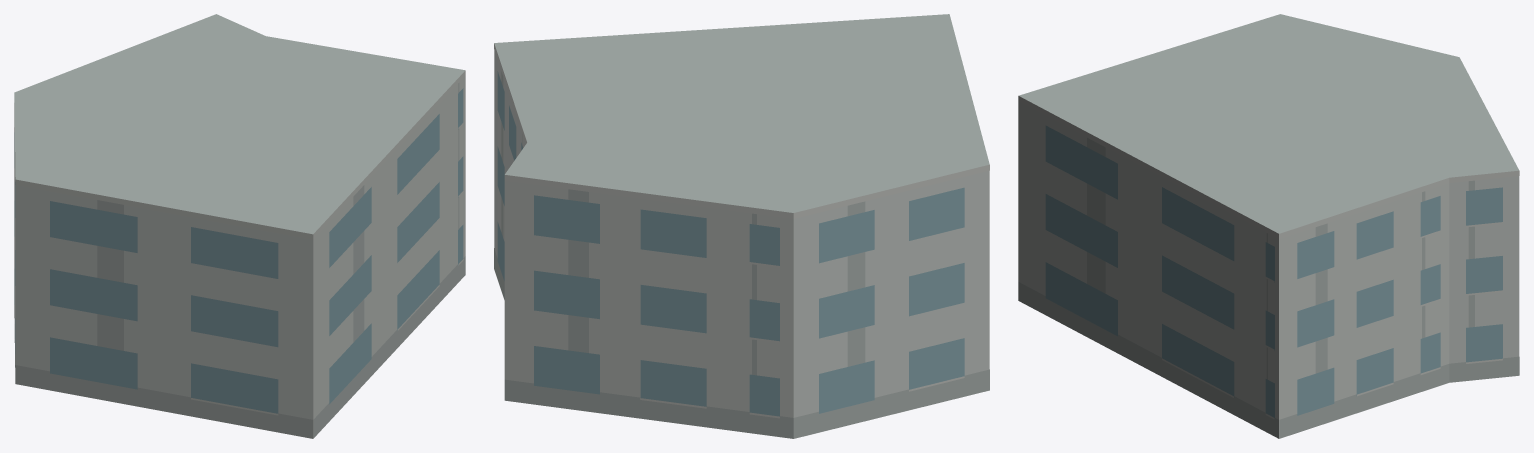
File: survey-upis-32489739.glb
3 views of the same model, side by side, from view 1: azimuth 30°, elevation 25°; view 2: azimuth 150°, elevation 25°; view 3: azimuth 270°, elevation 25° (orthographic). The views are drawn at different scales.
Parts seen in each view (by area): view 1: survey-upis-32489739.tmp; view 2: survey-upis-32489739.tmp; view 3: survey-upis-32489739.tmp.
Part boxes in pixels (x1=…): survey-upis-32489739.tmp: x1=14, y1=14, x2=465, y2=438; survey-upis-32489739.tmp: x1=494, y1=14, x2=989, y2=438; survey-upis-32489739.tmp: x1=1018, y1=14, x2=1519, y2=438.
Bounding box in the file's own units: 21.05 × 9.15 × 20.27.
